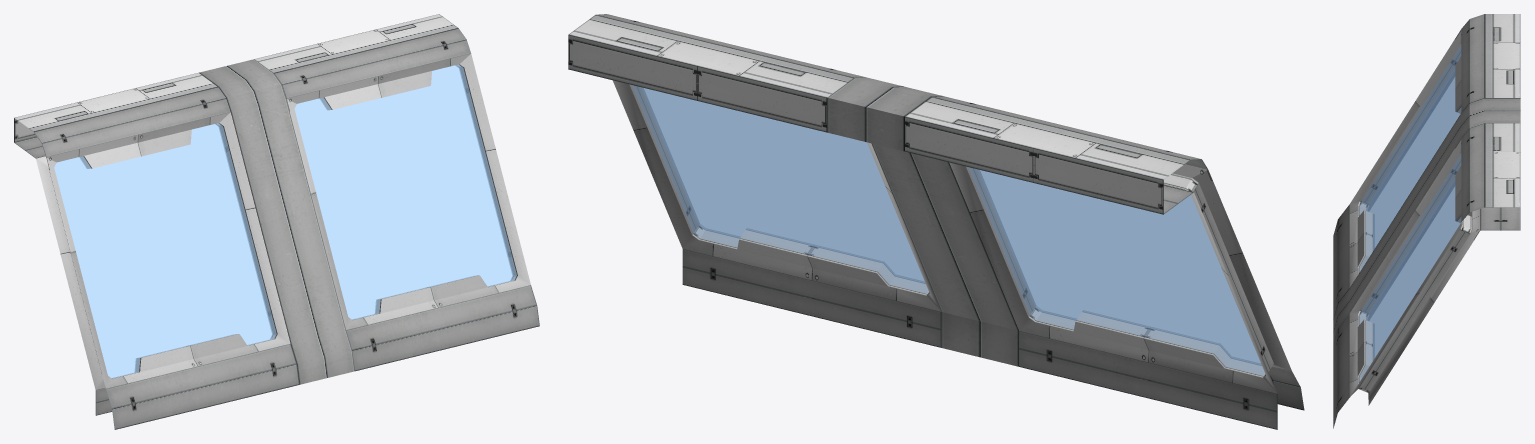
File: Ext_Window_Open_01.FBX
3 views of the same model, side by side, from view 1: azimuth 30°, elevation 25°; view 2: azimuth 150°, elevation 25°; view 3: azimuth 270°, elevation 25° (orthographic). The views are drawn at different scales.
Parts seen in each view (by area): view 1: Ext_Window_Open_01; view 2: Ext_Window_Open_01; view 3: Ext_Window_Open_01.
Boxes of the visible parts, x1,y1,x2,y2 form: Ext_Window_Open_01: [14, 14, 539, 429]; Ext_Window_Open_01: [568, 14, 1304, 429]; Ext_Window_Open_01: [1333, 14, 1520, 428].
Size of the model in its own units: 560 by 300 by 230.
